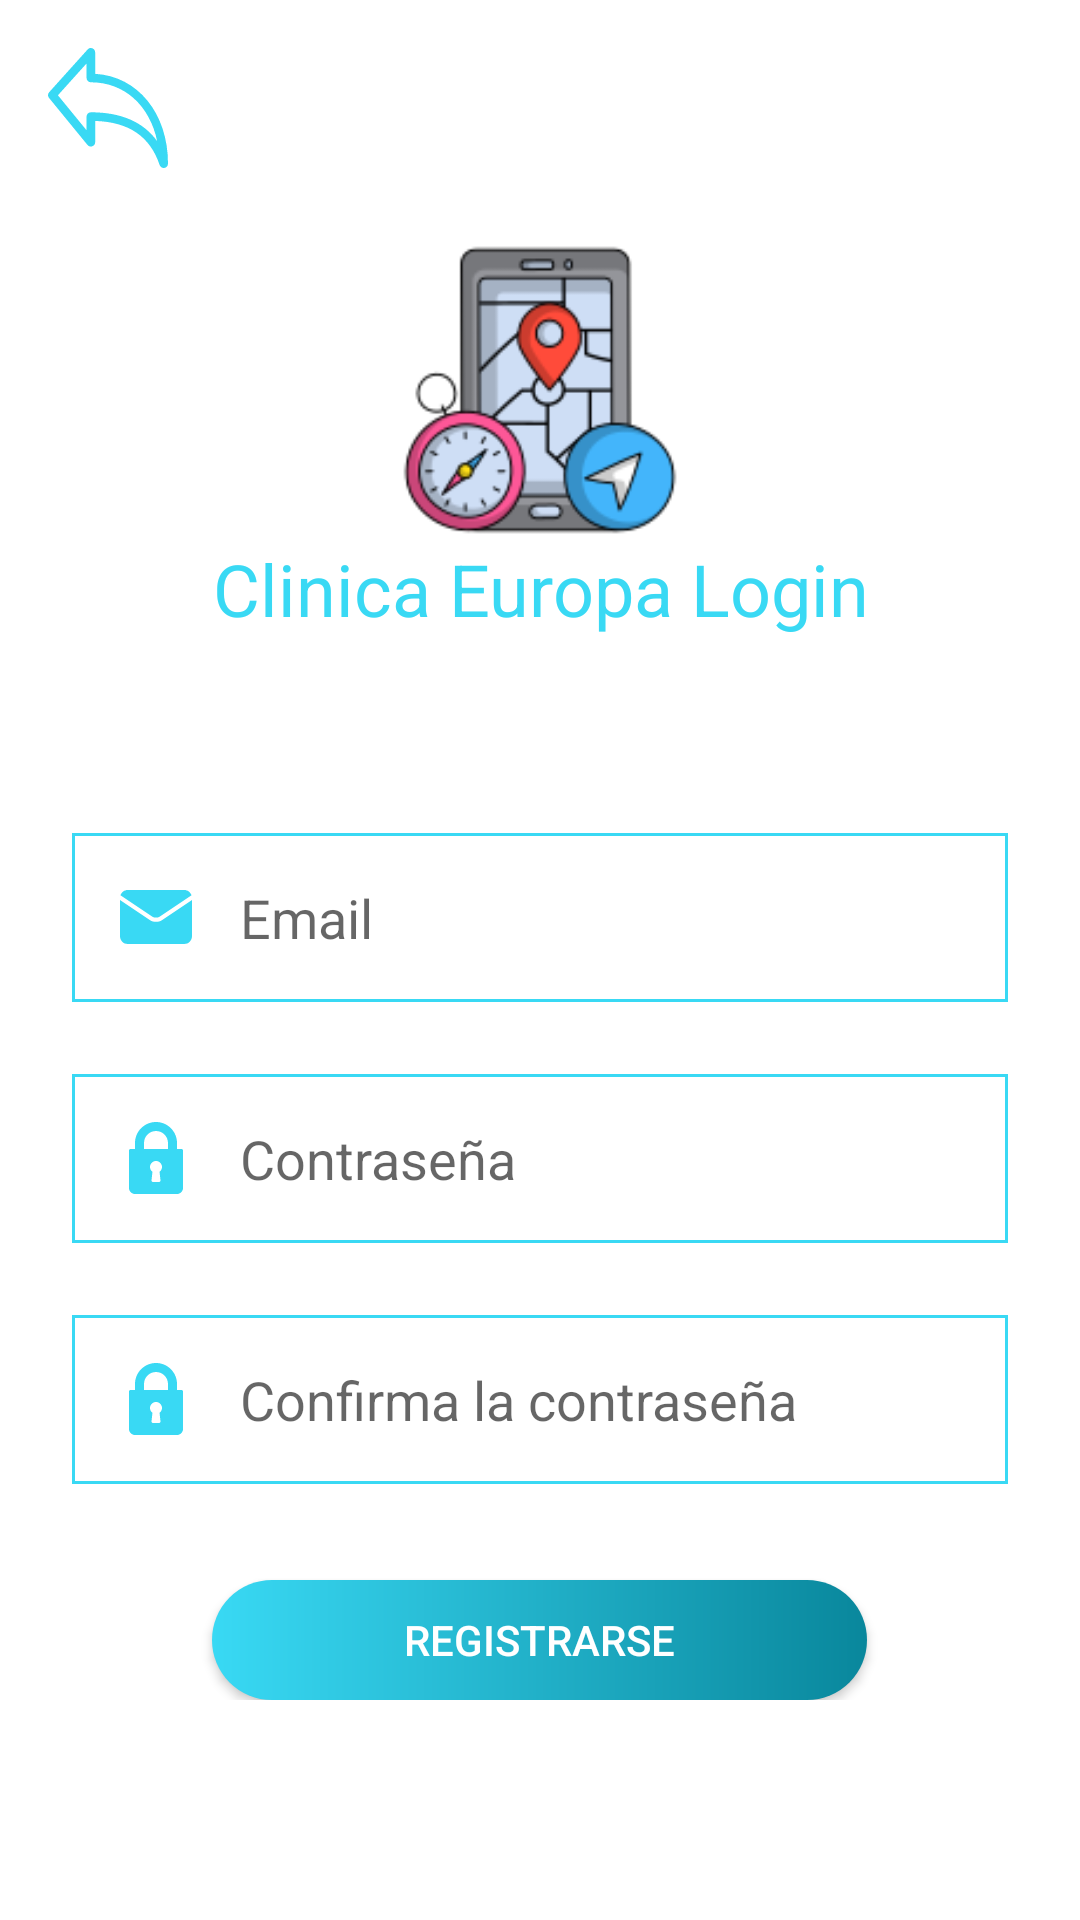

Named icons in this screenshot (1080×1920) and their centers, [x,y]:
back: [108,108]
gpsicon: [540,390]
